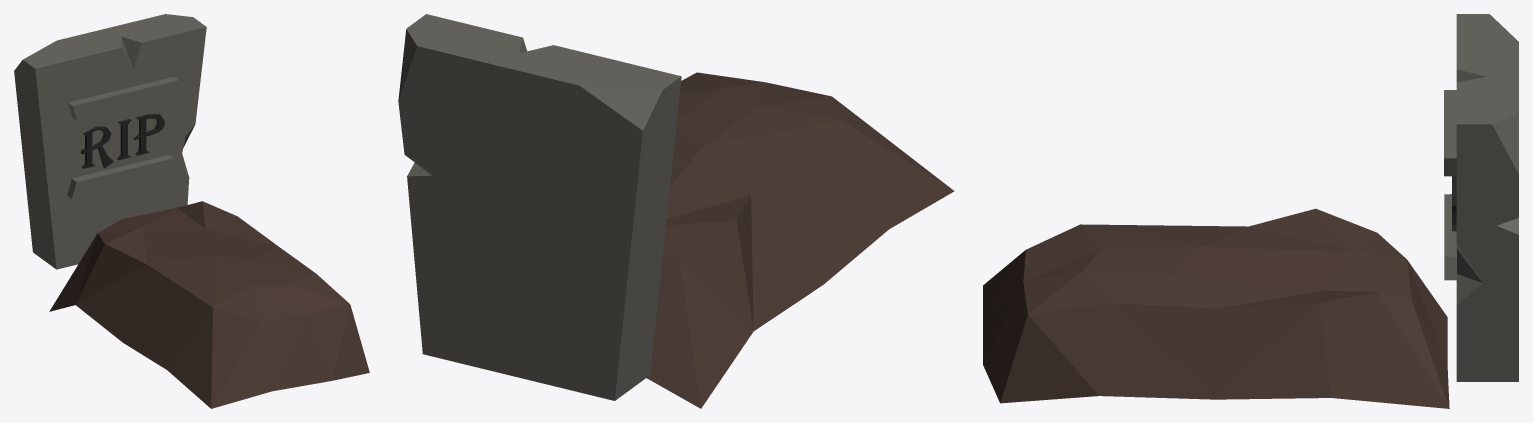
The model's file is LPHorror_GraveStone1.fbx.
3 views of the same model, side by side, from view 1: azimuth 30°, elevation 25°; view 2: azimuth 150°, elevation 25°; view 3: azimuth 270°, elevation 25° (orthographic). The views are drawn at different scales.
Visible parts, largest first — view 1: GraveStone1; view 2: GraveStone1; view 3: GraveStone1.
Part boxes in pixels (left/top/right/bottom): GraveStone1: left=14, top=14, right=369, bottom=408; GraveStone1: left=398, top=14, right=954, bottom=408; GraveStone1: left=983, top=14, right=1518, bottom=408.
Bounding box in the file's own units: 116 × 142 × 224.
